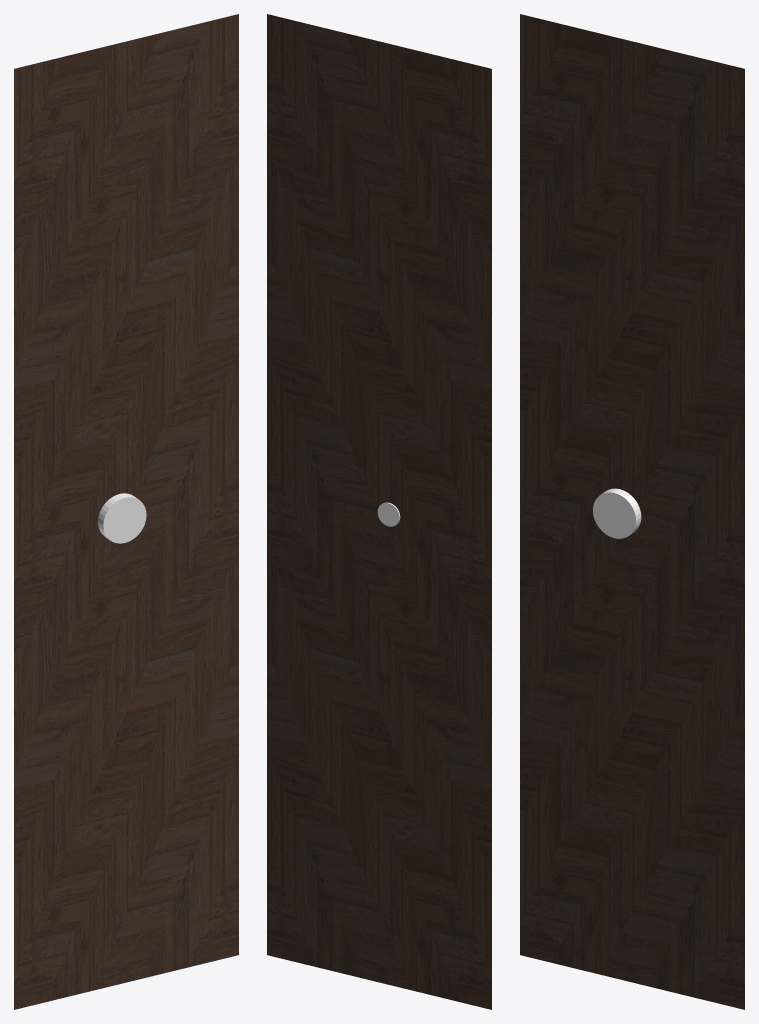
File: door-right.glb
The picture shows the model from 3 angles, left to right: view 1: azimuth 30°, elevation 25°; view 2: azimuth 150°, elevation 25°; view 3: azimuth 330°, elevation 25°; orthographic projection.
Visible parts, largest first — view 1: door-right; view 2: door-right; view 3: door-right.
Part boxes in pixels (x1,y1,x2,y2): door-right: (14, 14, 238, 1009); door-right: (267, 14, 491, 1009); door-right: (520, 14, 744, 1009).
Size of the model in its own units: 1.88 by 7.52 by 0.1294.
Materials: 2 (1 with a texture image).
